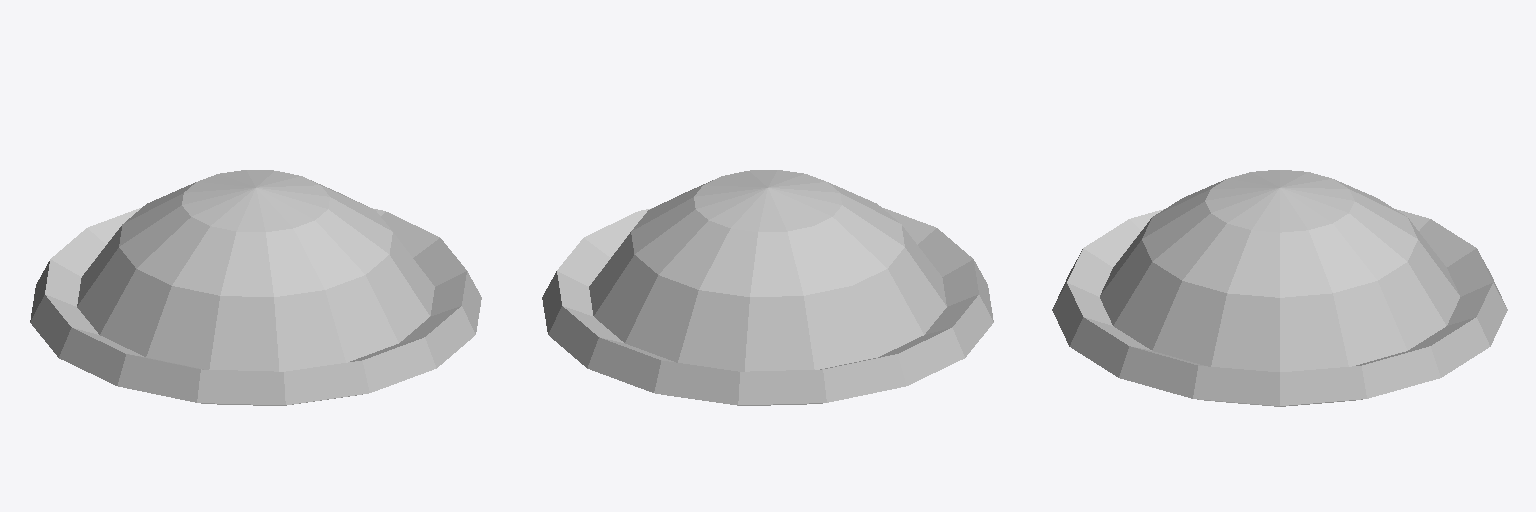
Rendered from ufo.obj.
The picture shows the model from 3 angles: view 1: azimuth 30°, elevation 25°; view 2: azimuth 150°, elevation 25°; view 3: azimuth 270°, elevation 25°; orthographic projection.
Visible parts, largest first — view 1: ufo; view 2: ufo; view 3: ufo.
Boxes of the visible parts, <box> form: ufo: <box>30,170,481,405</box>; ufo: <box>542,170,993,405</box>; ufo: <box>1052,170,1507,406</box>.
Size of the model in its own units: 2.33 by 0.7724 by 2.33.